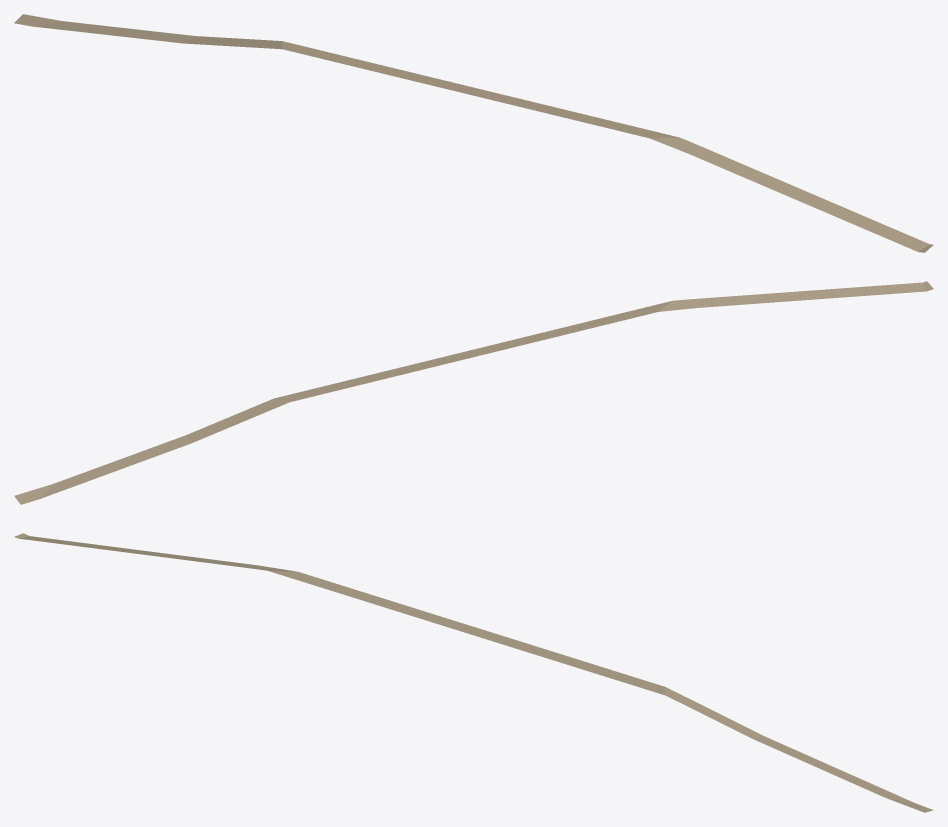
Rendered from farm_-33_-34_track.glb.
3 views of the same model, one above another, from view 1: azimuth 90°, elevation 25°; view 2: azimuth 150°, elevation 25°; view 3: azimuth 270°, elevation 25° (orthographic). The views are drawn at different scales.
Visible parts, largest first — view 1: geometry_0; view 2: geometry_0; view 3: geometry_0.
Boxes of the visible parts, x1,y1,x2,y2 form: geometry_0: (14,14,933,252); geometry_0: (14,281,933,504); geometry_0: (14,533,933,812).
Bounding box in the file's own units: 121 × 13.59 × 181.
